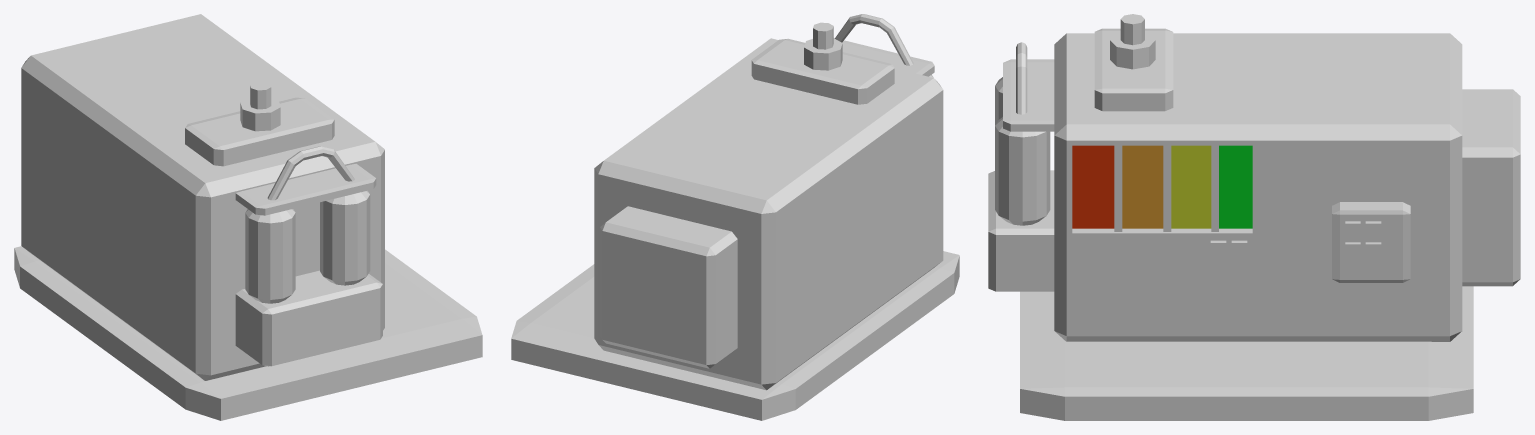
The model's file is generator.fbx.
3 views of the same model, side by side, from view 1: azimuth 30°, elevation 25°; view 2: azimuth 150°, elevation 25°; view 3: azimuth 270°, elevation 25° (orthographic). The views are drawn at different scales.
Parts seen in each view (by area): view 1: Cube, Cube.014, Cube.004, Cube.002, Cylinder, Cylinder.001, Cube.003, Cylinder.002, Cylinder.003; view 2: Cube, Cube.014, Cube.001, Cube.002, Cylinder.002, Cube.003, Cylinder.003; view 3: Cube, Cube.014, Plane, Cube.001, Cube.007, Cube.004, Cylinder.001, Cube.002, Cube.003, Cylinder.002, Cylinder.003, Cube.005 (+2 smaller).
Part boxes in pixels (box(x1,y1,x2,y2)): Cube: box(21, 14, 384, 380); Cube.014: box(14, 246, 482, 420); Cube.004: box(235, 270, 382, 366); Cube.002: box(185, 97, 334, 166); Cylinder: box(245, 209, 295, 303); Cylinder.001: box(320, 190, 370, 285); Cube.003: box(235, 163, 376, 215); Cylinder.002: box(240, 81, 280, 131); Cylinder.003: box(267, 146, 354, 200); Cube: box(594, 38, 943, 390); Cube.014: box(511, 251, 959, 420); Cube.001: box(600, 206, 737, 368); Cube.002: box(751, 38, 894, 104); Cylinder.002: box(804, 22, 842, 70); Cube.003: box(834, 38, 934, 76); Cylinder.003: box(835, 14, 913, 65); Cube: box(1054, 33, 1462, 341); Cube.014: box(1020, 286, 1473, 420); Plane: box(1072, 145, 1252, 228); Cube.001: box(1462, 89, 1520, 286); Cube.007: box(1332, 202, 1410, 282); Cube.004: box(988, 170, 1054, 291); Cylinder.001: box(995, 117, 1050, 225); Cube.002: box(1094, 28, 1173, 111); Cube.003: box(1003, 59, 1054, 131); Cylinder.002: box(1110, 14, 1155, 69); Cylinder.003: box(1016, 42, 1027, 114); Cube.005: box(1114, 145, 1122, 231).
Bounding box in the file's own units: 308 × 279 × 443.
